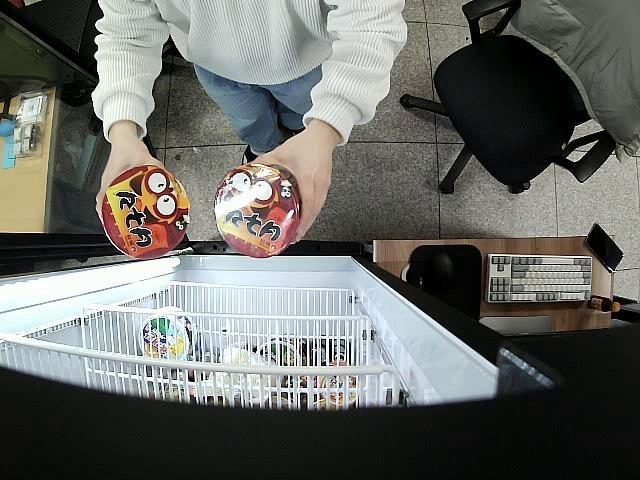05_nuguri_L: (214, 163, 304, 259), (103, 164, 191, 260)
